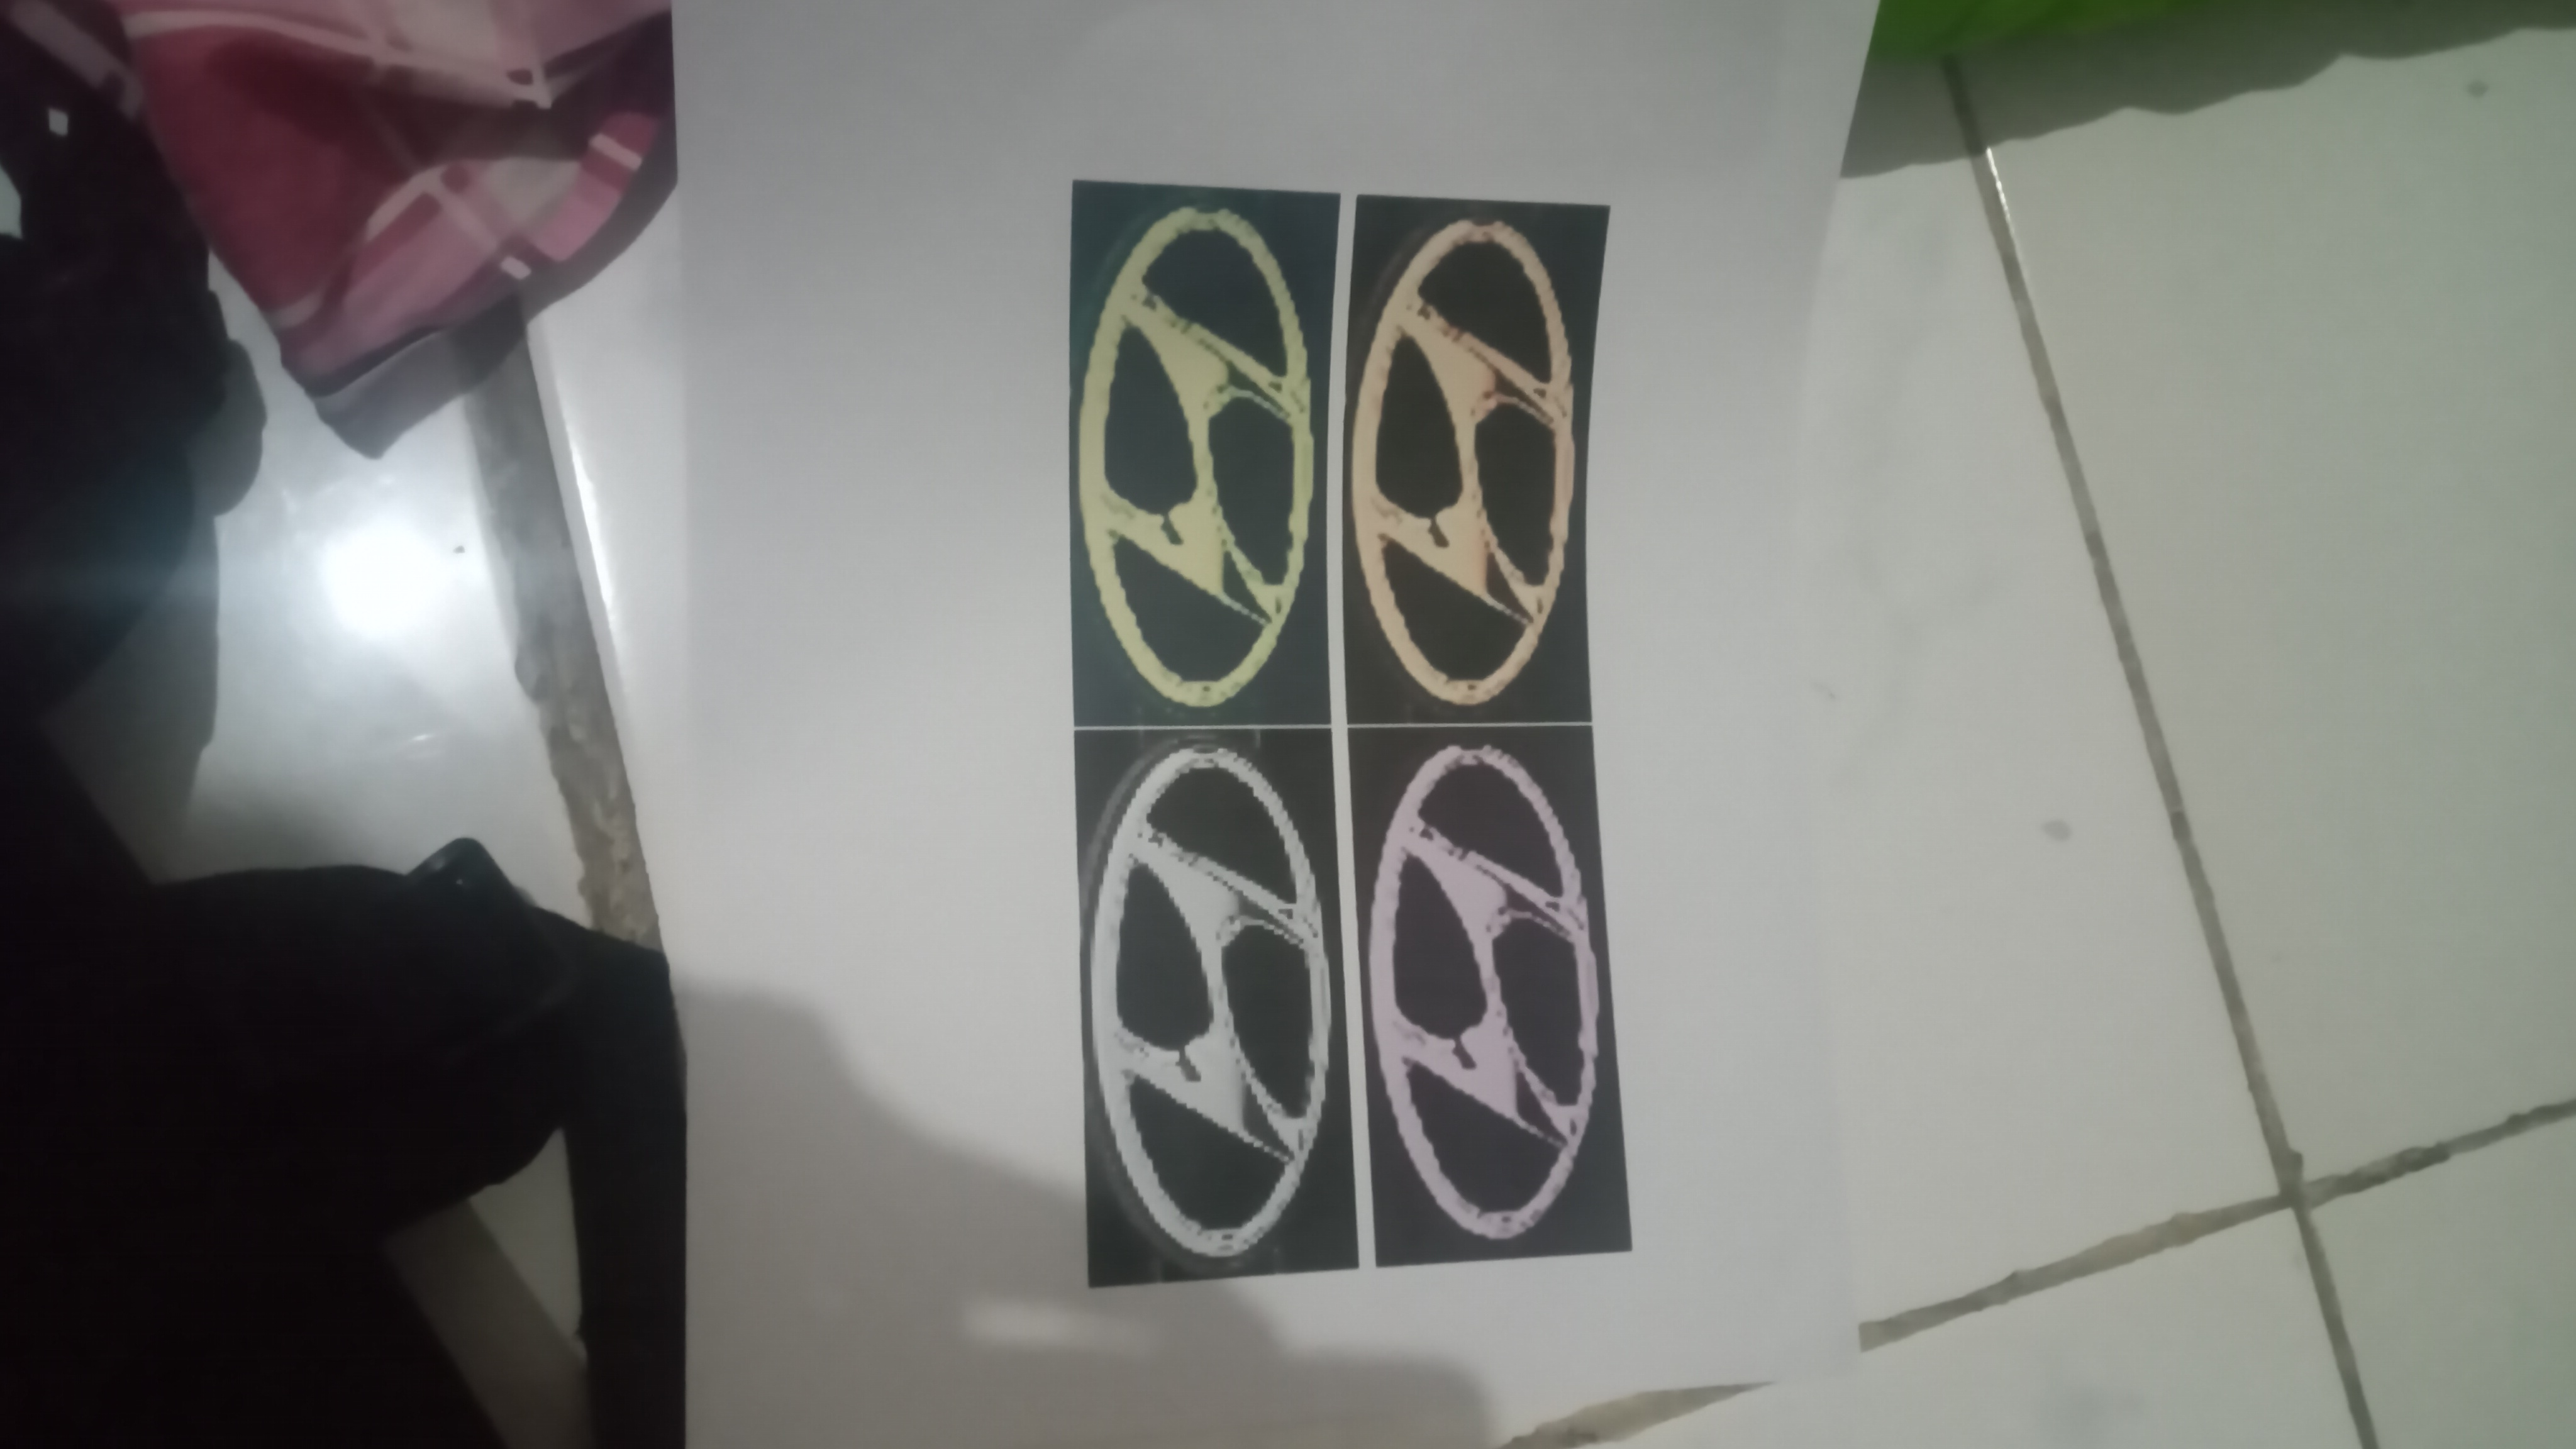Hyundai: (1049, 740, 1348, 1279), (1047, 173, 1315, 718), (1376, 729, 1649, 1263), (1348, 188, 1582, 701)
